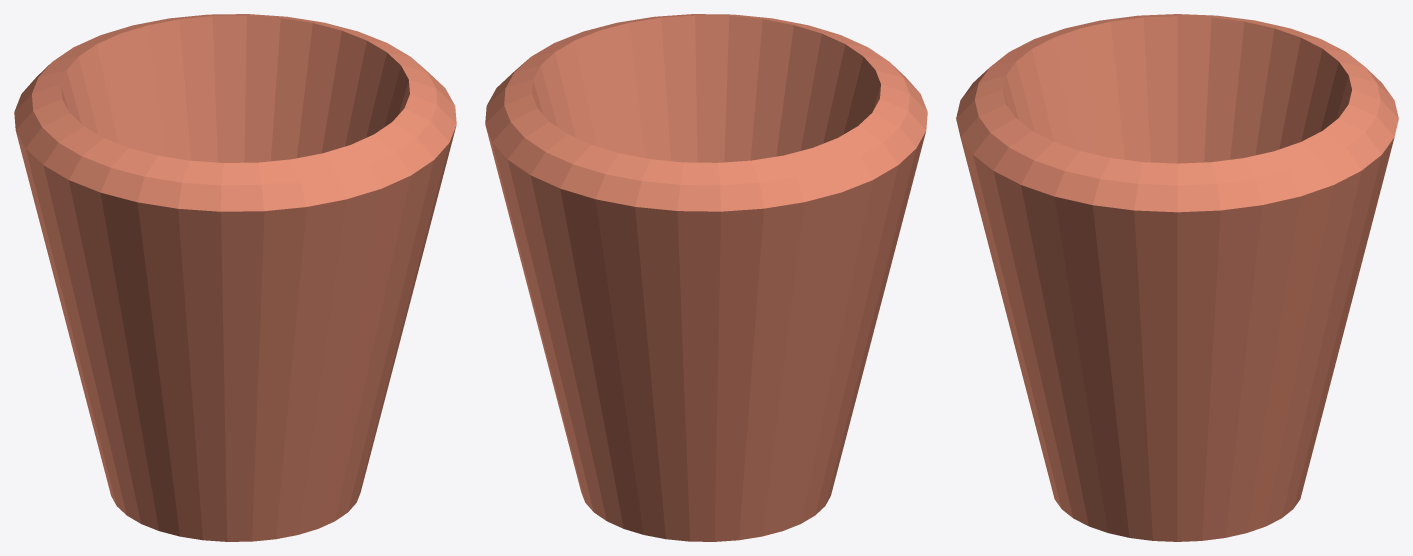
Rendered from basket01.fbx.
3 renders of one model, left to right at view 1: azimuth 30°, elevation 25°; view 2: azimuth 150°, elevation 25°; view 3: azimuth 270°, elevation 25°, orthographic.
Parts seen in each view (by area): view 1: basket01; view 2: basket01; view 3: basket01.
Part boxes in pixels (box(x1,y1,x2,y2)): basket01: box(14, 14, 456, 541); basket01: box(485, 14, 927, 541); basket01: box(956, 14, 1398, 541).
Bounding box in the file's own units: 85.98 × 85.54 × 85.98.
